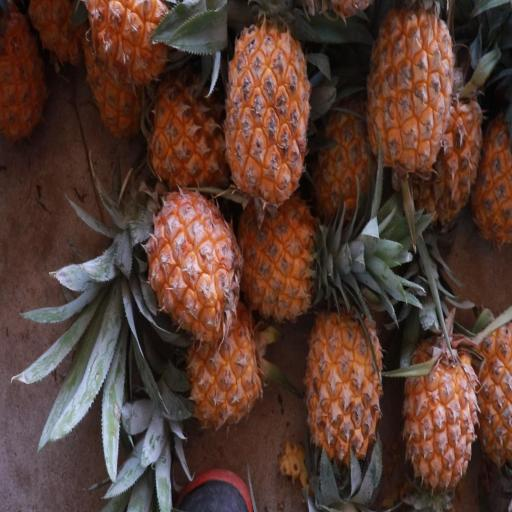Pineapple - v8 v1: (220, 16, 314, 214), (137, 182, 248, 348), (300, 300, 384, 511), (224, 182, 336, 330), (363, 2, 458, 174), (398, 318, 481, 502), (410, 71, 489, 244), (180, 281, 267, 433), (470, 300, 512, 479), (470, 89, 512, 255)
